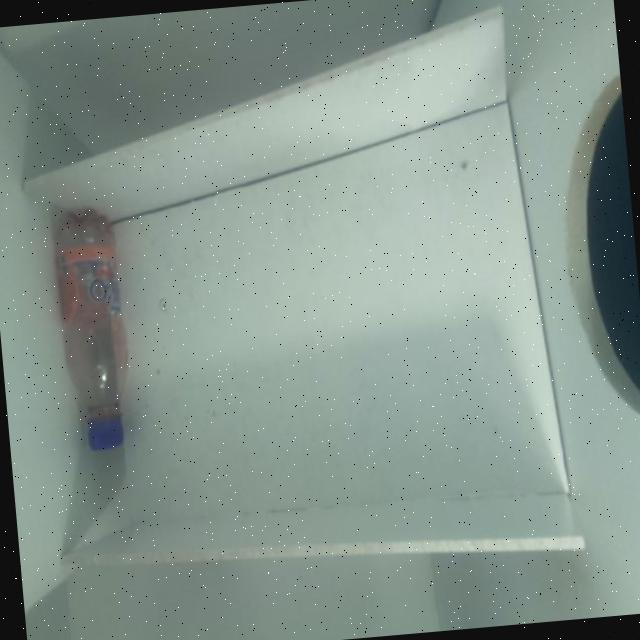bottle: (35, 174, 162, 465)
cap: (78, 410, 138, 458)
label: (52, 248, 131, 334)
